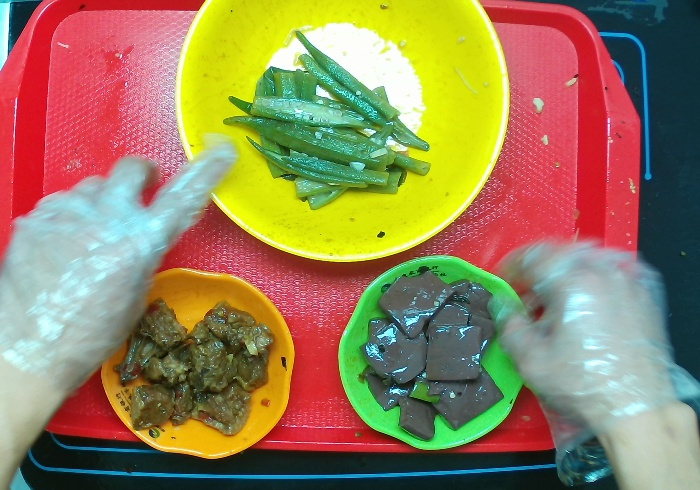YKMZ-Huang_Se_Tang_Wan: (172, 1, 513, 264)
YKMZ-Ju_Se_Ao_Bian_Wan: (99, 265, 297, 460)
YKMZ-Lv_Se_Ao_Bian_Wan: (334, 254, 535, 452)
